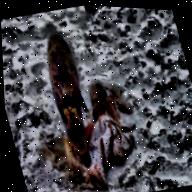boar: (25, 16, 108, 168)
